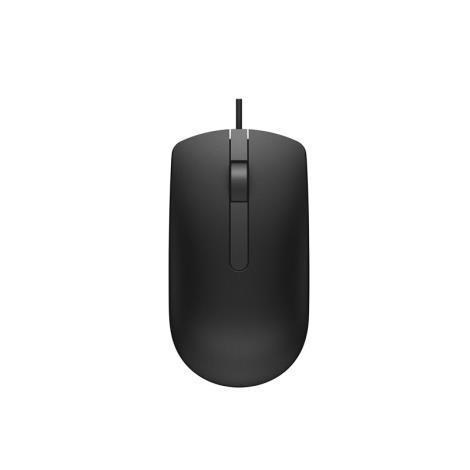dell-mouse-ms116: (170, 98, 312, 388)
